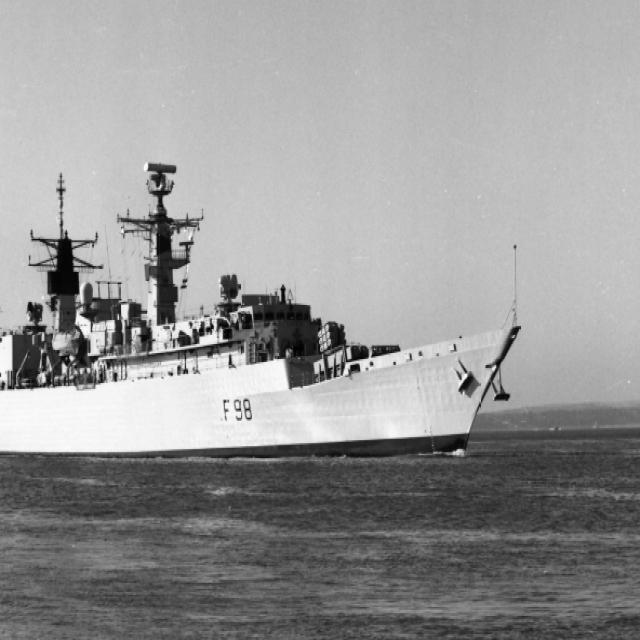Fragata: (1, 134, 527, 462)
